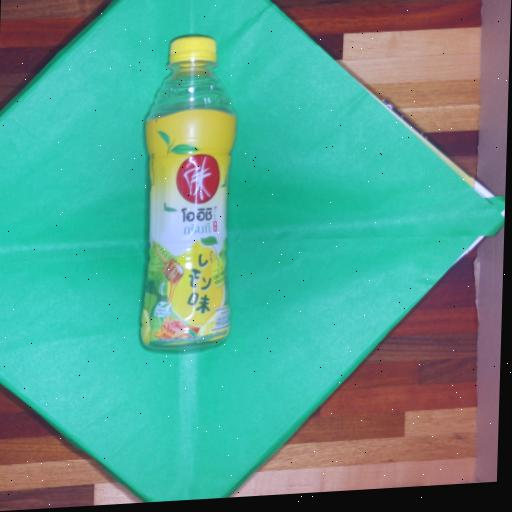bottle: (134, 34, 243, 358)
